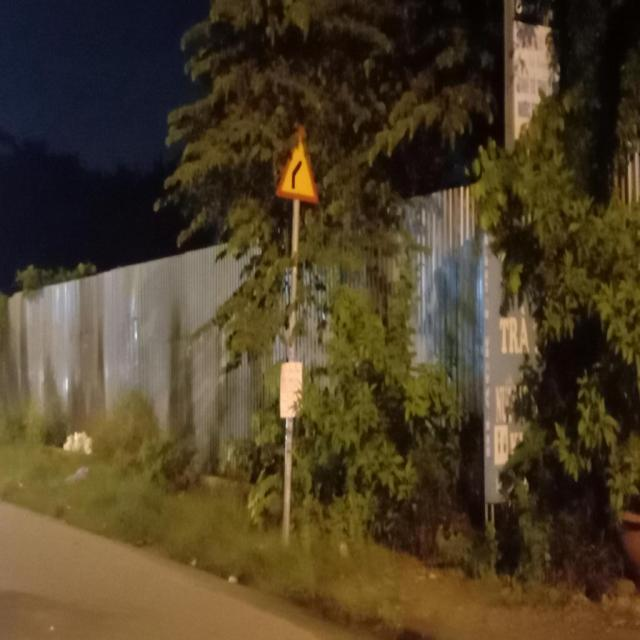cho_ngoat_nguy_hiem_ben_phai: (276, 124, 318, 202)
